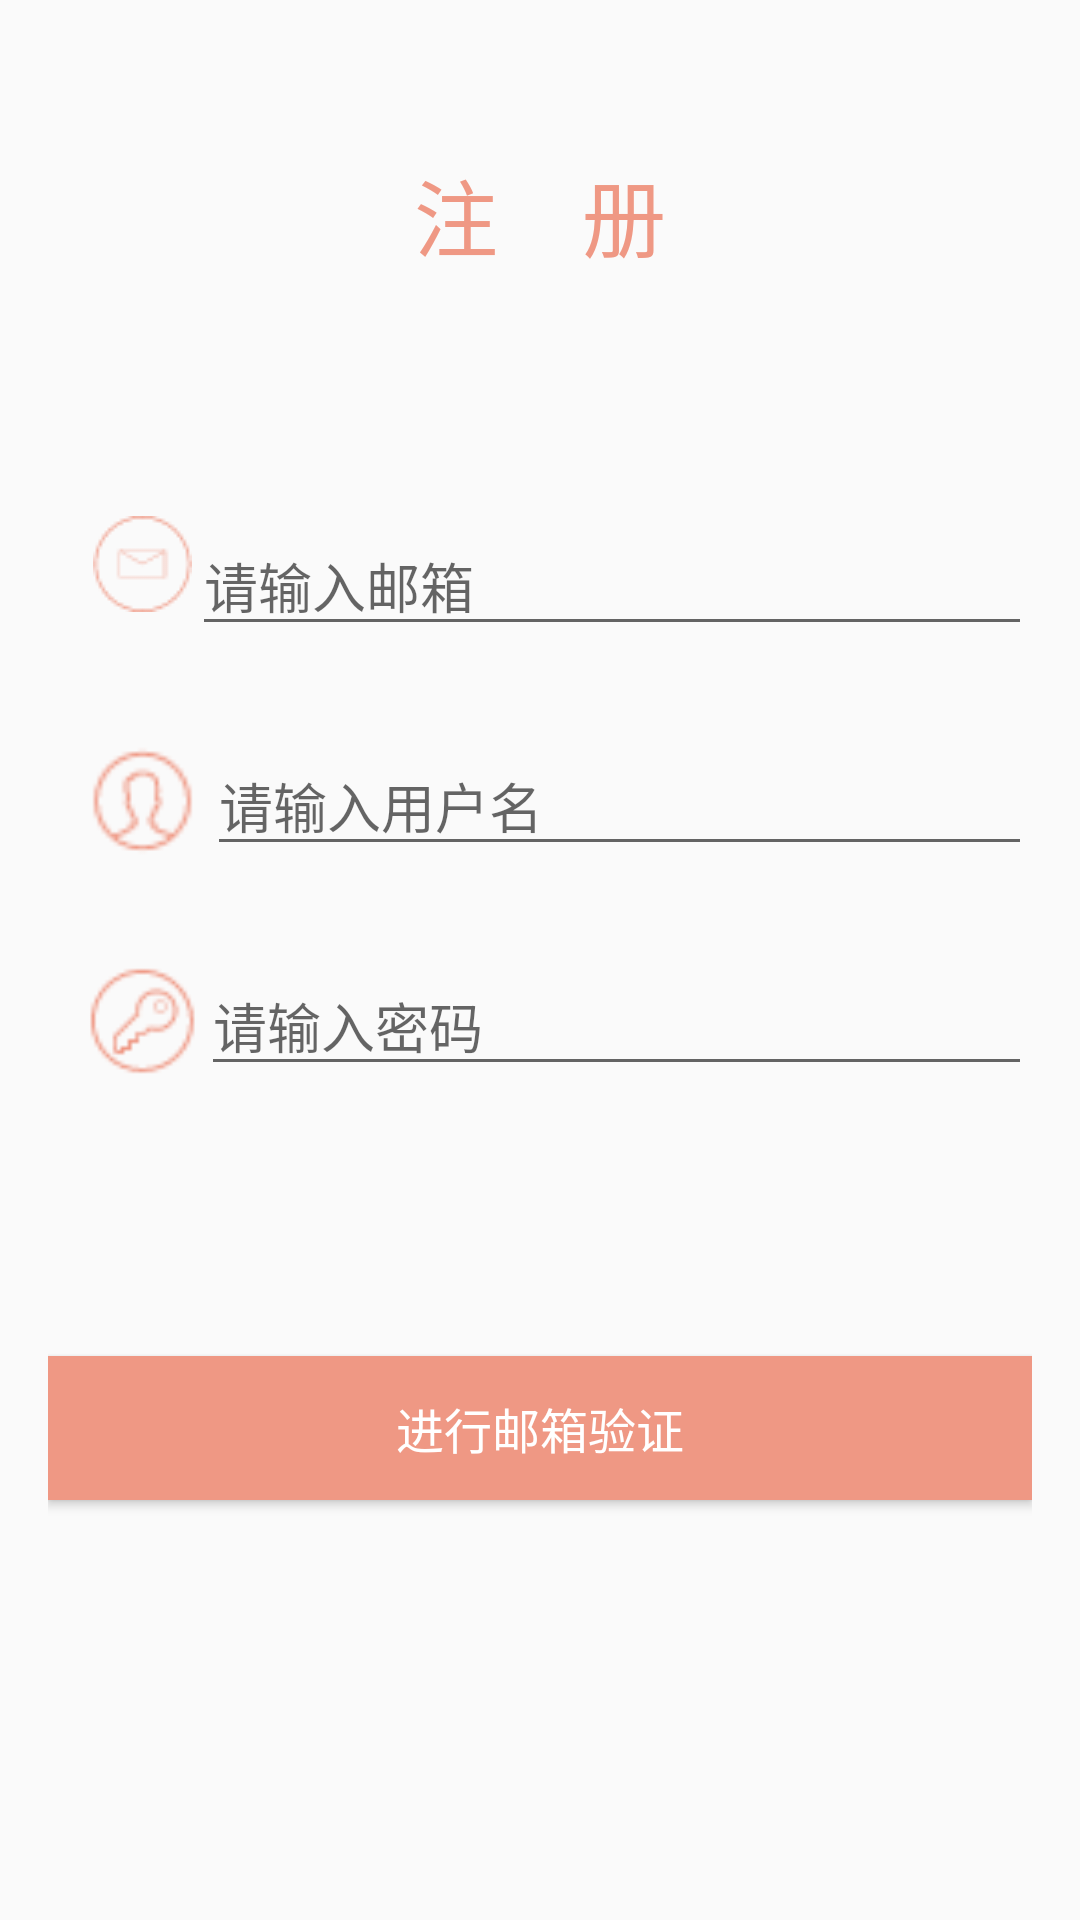

Where icons sit on this 1080px x 1920px app screen, as (x1, y1, x2, y2):
mail: (93, 516, 192, 612)
password: (90, 969, 195, 1073)
user: (93, 751, 192, 851)
